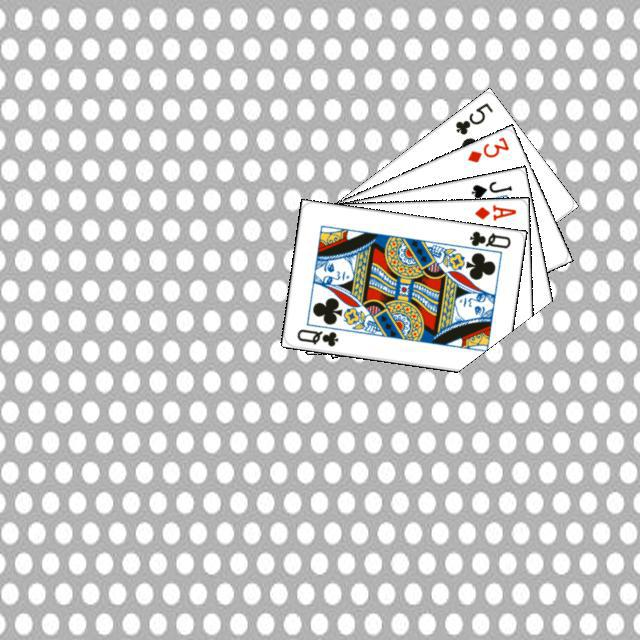3d: (462, 132, 511, 164)
5c: (450, 98, 495, 137)
Ad: (470, 200, 518, 222)
Js: (466, 176, 514, 200)
Qc: (459, 226, 512, 257), (292, 324, 340, 348)
